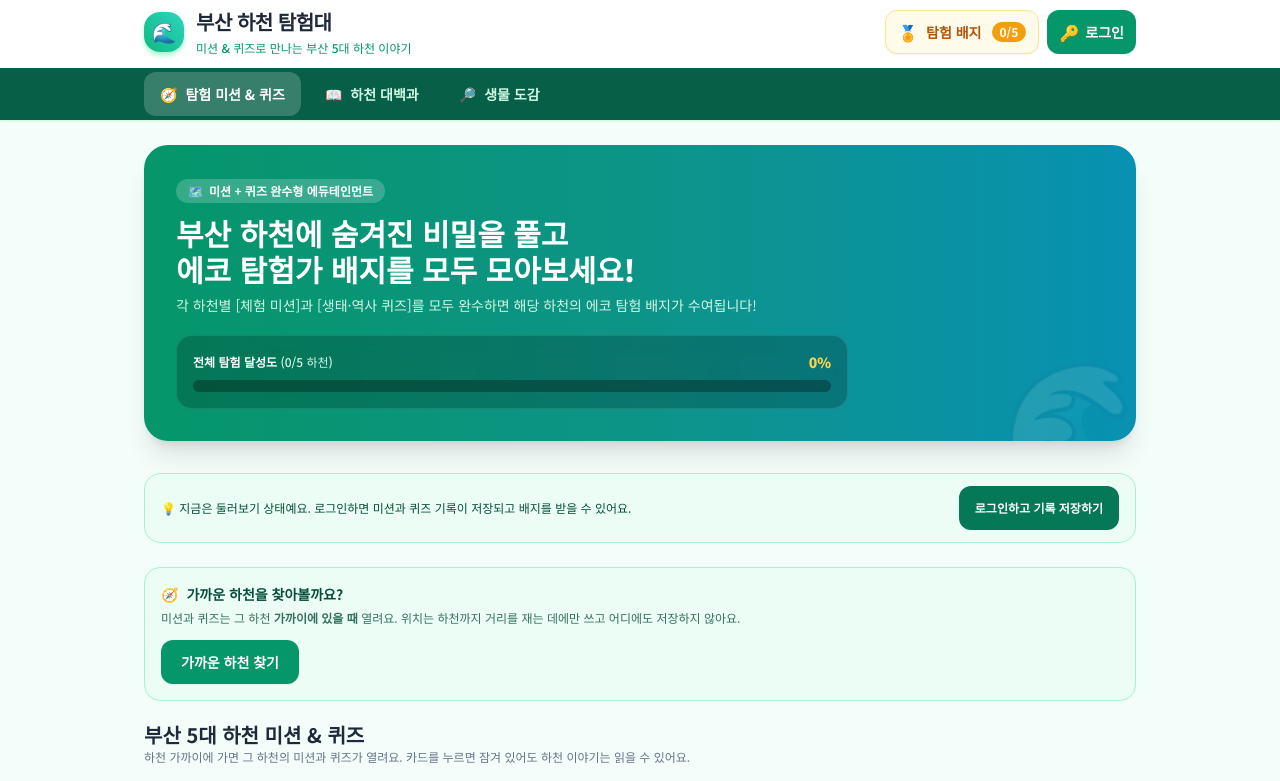
Test: 위치 요청 — watching › 반경 안 하천만 열리고 나머지는 남은 거리를 보여준다
The width and height of the screenshot is (1280, 781).
Click the button "가까운 하천 찾기": click(230, 662) [161,640,299,684]
(page scrolled)
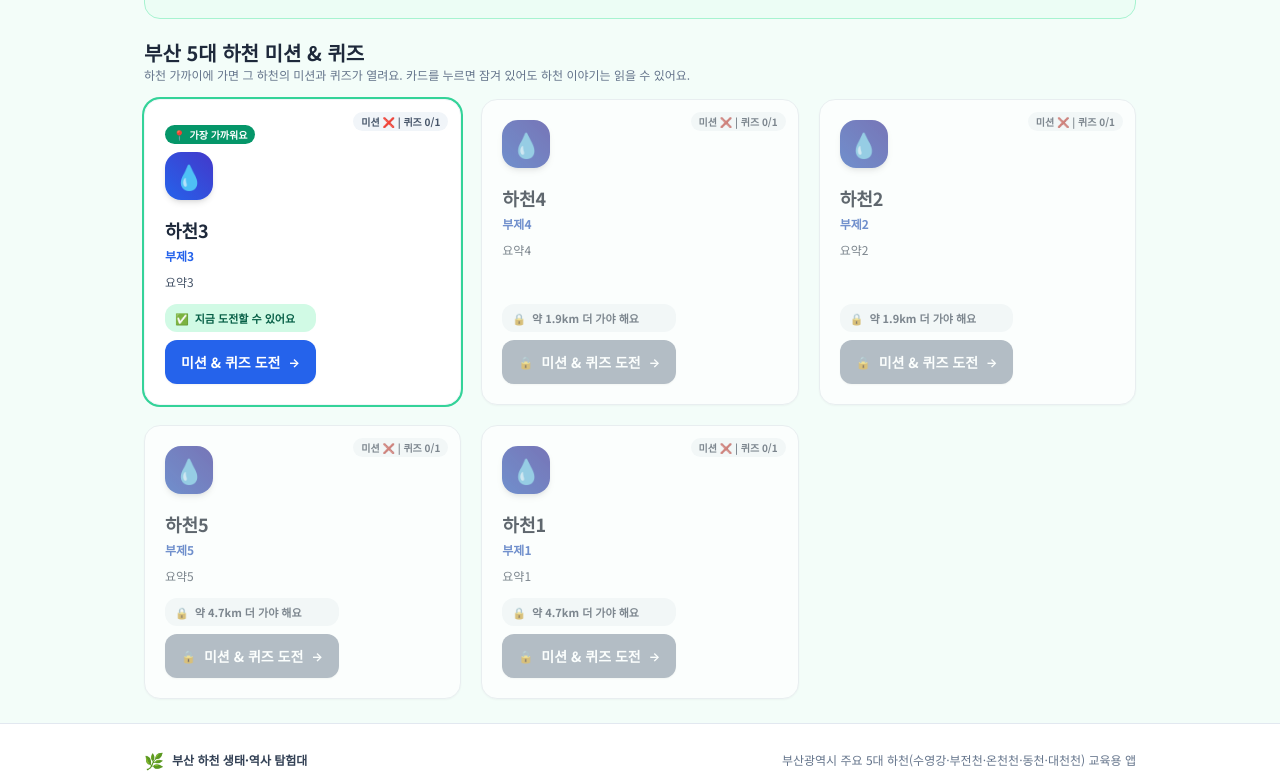
Now the 1st button shows "지금 도전할 수 있어요", box [144,99,461,405]
Now the button "미션 ❌ | 퀴즈 0/1 💧 하천1 부제1 요약1 🔒 약 4.7km 더 가야 해요 🔒 미션 & 퀴즈 도전 →" is shown, box [481,425,799,699]
